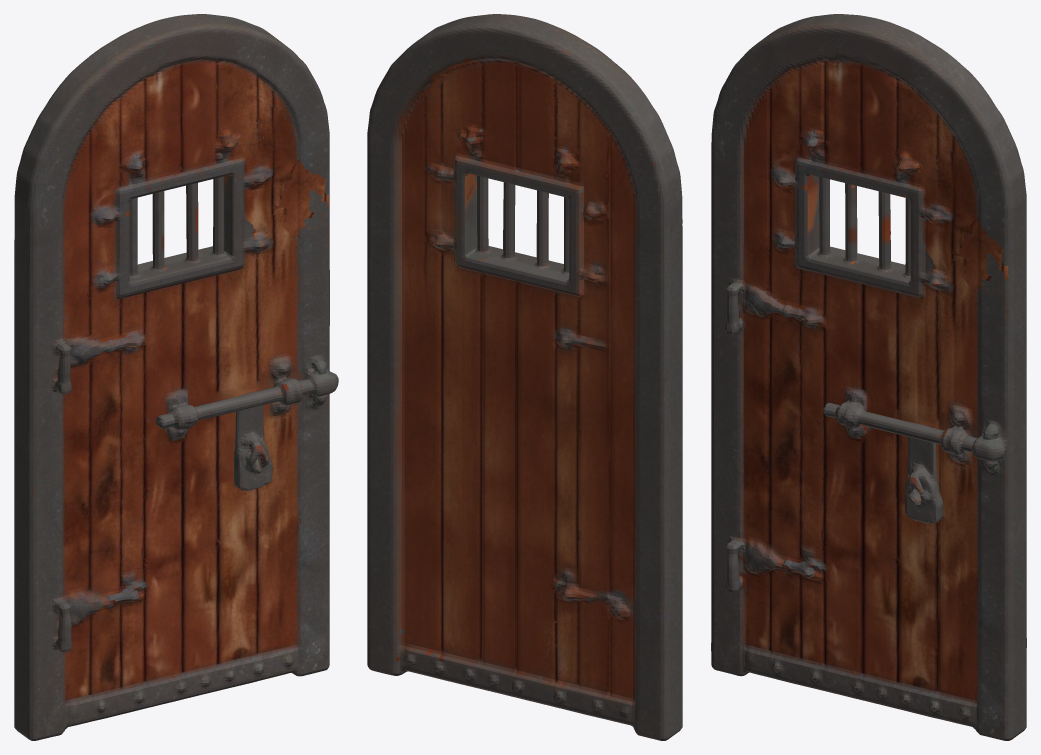
The picture shows the model from 3 angles, left to right: view 1: azimuth 30°, elevation 25°; view 2: azimuth 150°, elevation 25°; view 3: azimuth 330°, elevation 25°; orthographic projection.
Parts seen in each view (by area): view 1: Hy21_Mesh.obj; view 2: Hy21_Mesh.obj; view 3: Hy21_Mesh.obj.
Boxes of the visible parts, bbox=[...] form: Hy21_Mesh.obj: bbox=[14, 14, 338, 740]; Hy21_Mesh.obj: bbox=[367, 14, 682, 740]; Hy21_Mesh.obj: bbox=[711, 14, 1026, 740].
Size of the model in its own units: 0.9133 by 1.96 by 0.1725.
Materials: 1 (1 with a texture image).
